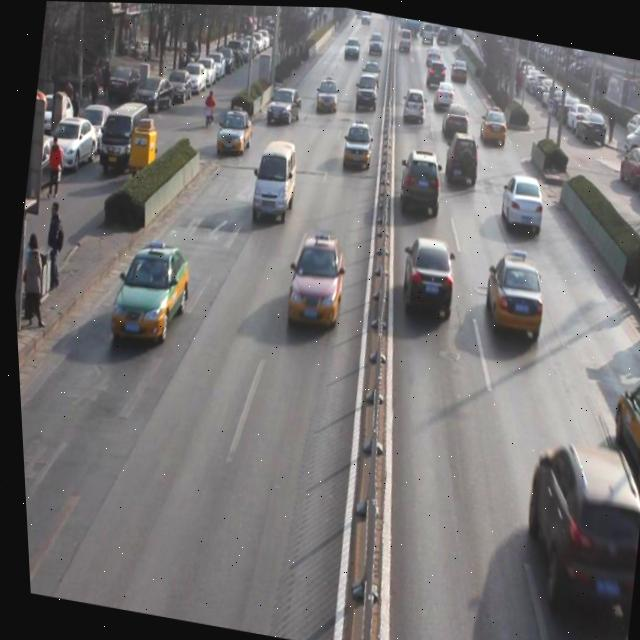car: (506, 427, 640, 622), (105, 243, 193, 349), (474, 245, 551, 344), (281, 233, 349, 334), (393, 231, 460, 324), (597, 372, 640, 491), (394, 145, 446, 216), (495, 170, 547, 234), (439, 125, 484, 188), (211, 104, 255, 158), (337, 118, 375, 171), (264, 83, 304, 126), (438, 98, 471, 139), (350, 70, 381, 113), (477, 102, 509, 142), (399, 82, 429, 122), (312, 74, 341, 112), (431, 75, 457, 112), (360, 56, 382, 86)
truck: (244, 133, 303, 226)
